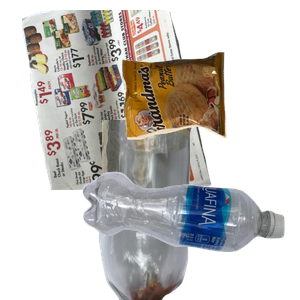glass: (96, 120, 283, 300)
paper: (19, 10, 223, 190)
plastic: (80, 169, 300, 300)
trash: (120, 50, 300, 182)
